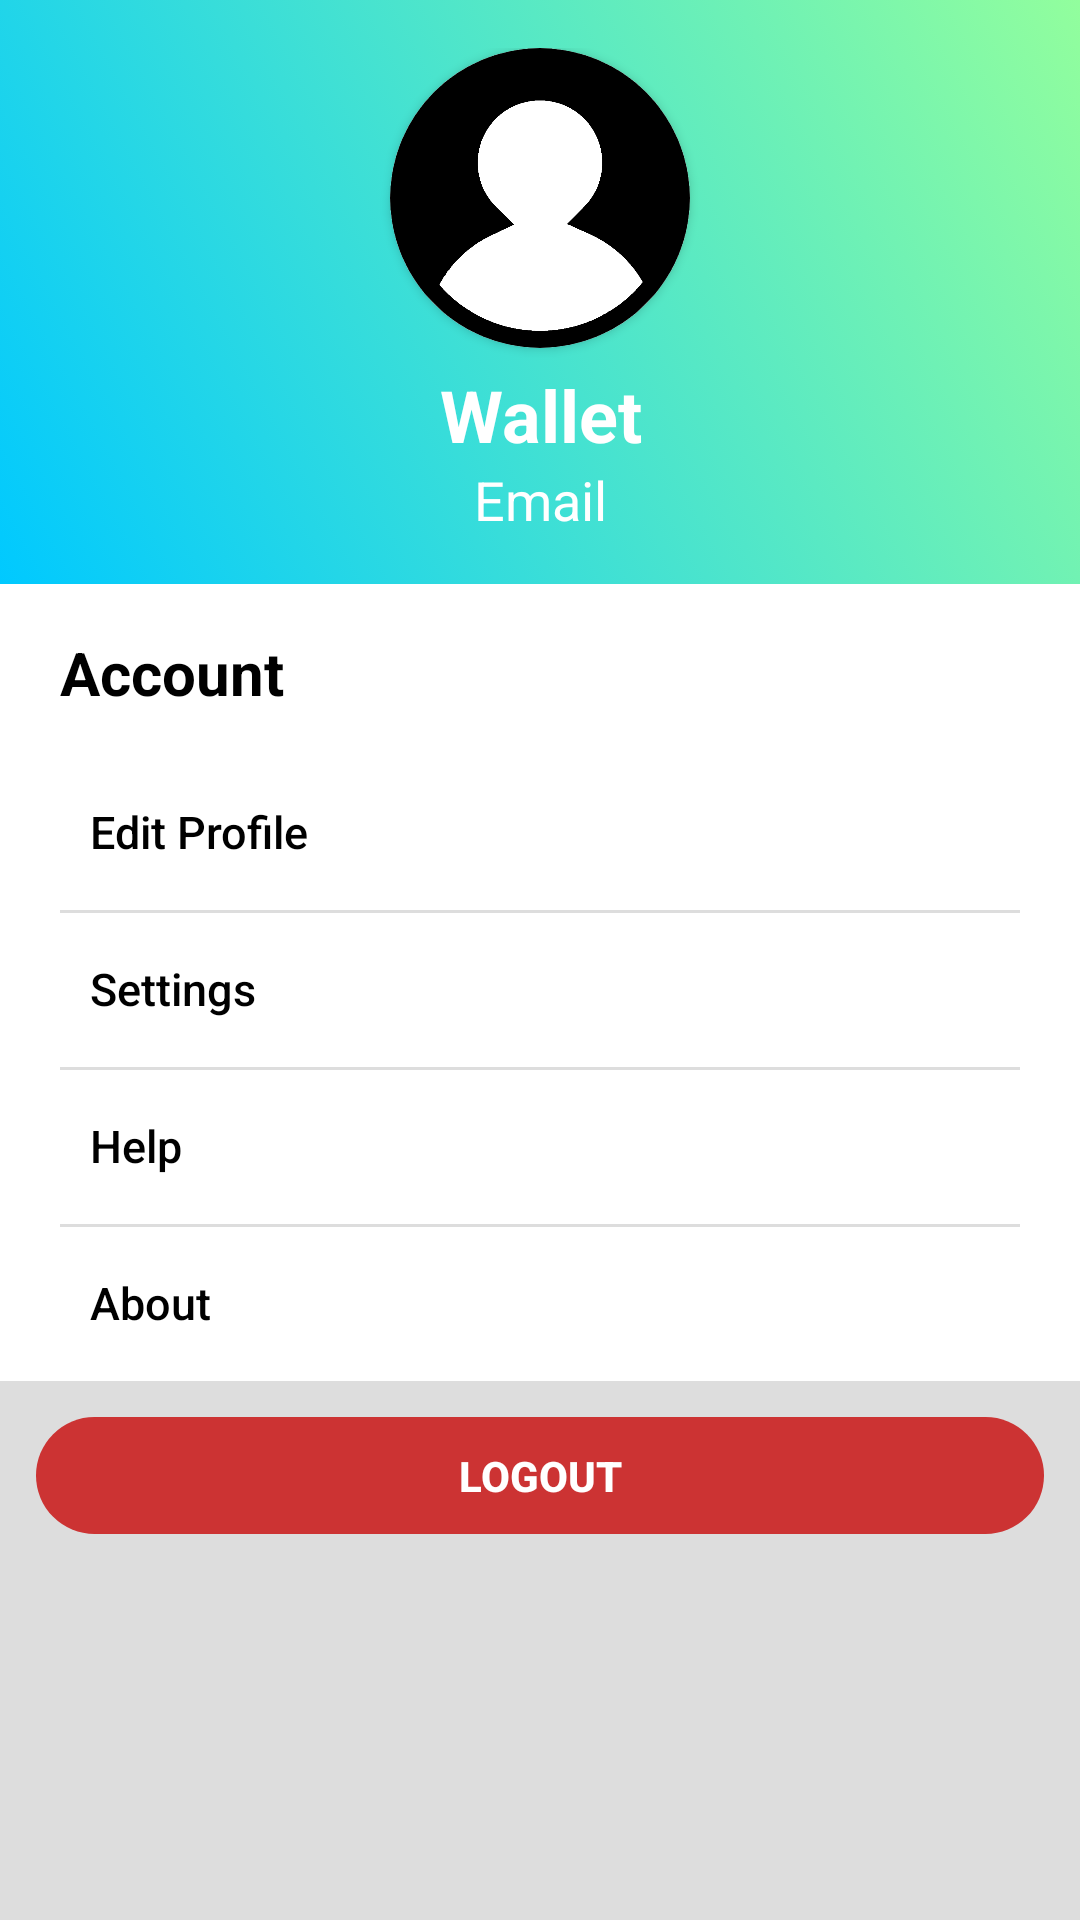

Icon click points for this 1080x1920 phone screenshot, format point (x, y):
profile: point (540, 198)
